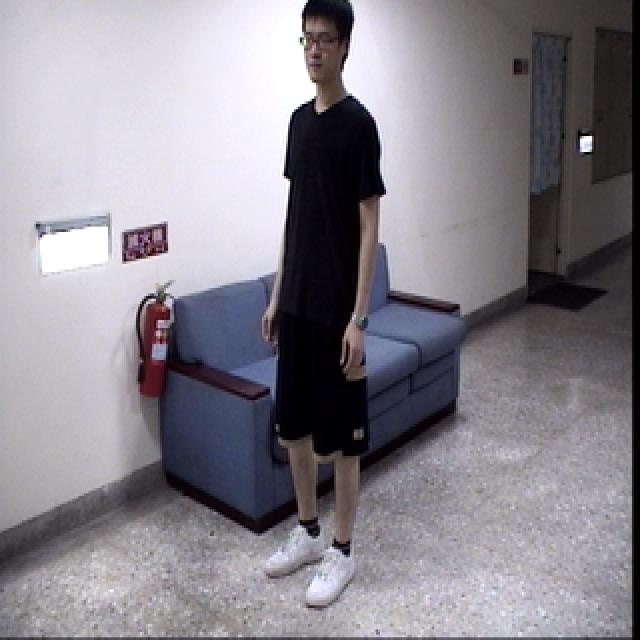stand: (249, 0, 391, 615)
